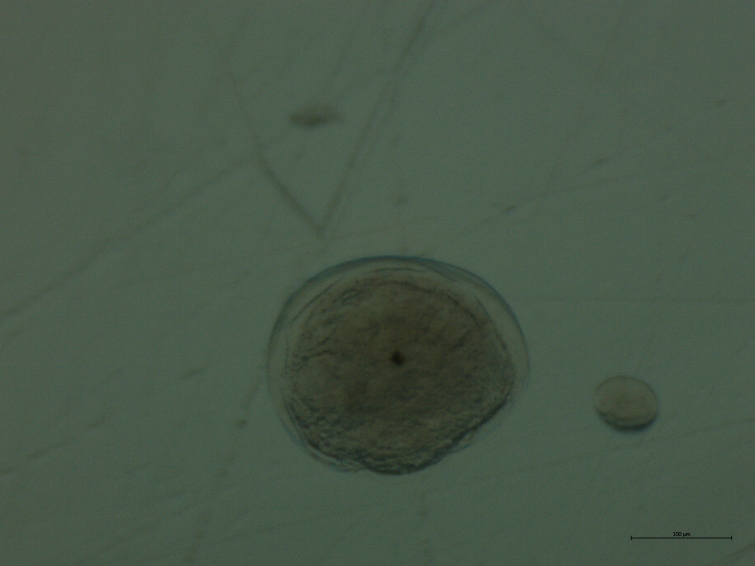oyster: (257, 248, 545, 496)
